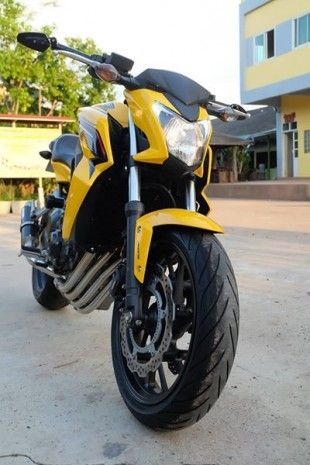motorcycle: (15, 28, 251, 432)
